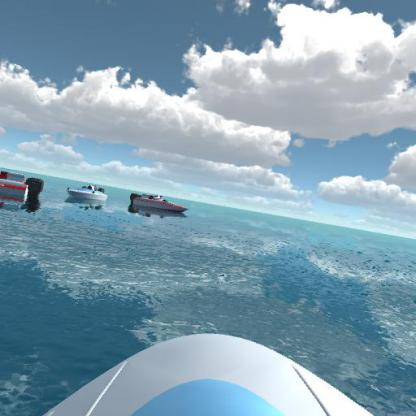usv1: (67, 180, 110, 212)
usv3: (0, 163, 48, 214), (127, 189, 190, 222)
